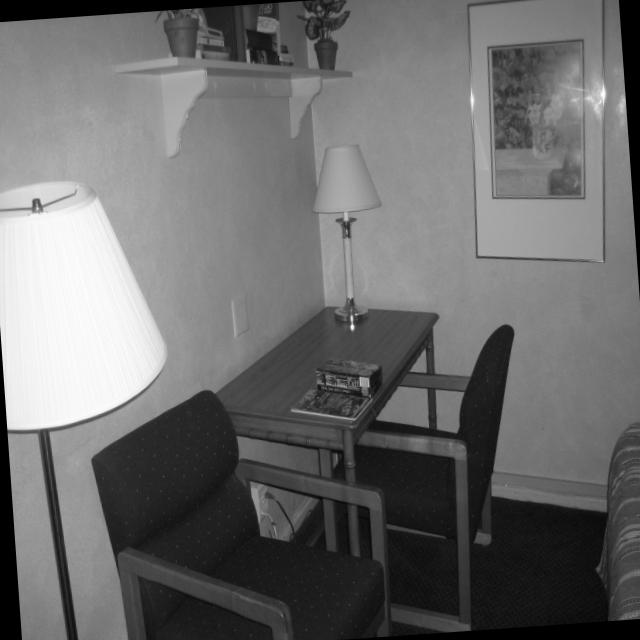bed -occluded-: (596, 423, 640, 620)
book case: (315, 356, 381, 394), (292, 388, 372, 419)
books crop: (190, 3, 292, 66)
chair -occluded-: (90, 389, 392, 640), (318, 324, 513, 631)
floor -X: (212, 478, 640, 640)
lamp crop: (0, 181, 168, 640), (313, 144, 381, 322)
painting crop: (467, 0, 605, 263)
potted plant: (296, 0, 350, 69), (163, 8, 209, 57)
shelf crop: (115, 59, 353, 156)
table -X: (201, 306, 439, 559)
wall clock: (0, 1, 340, 640), (305, 0, 640, 517)
